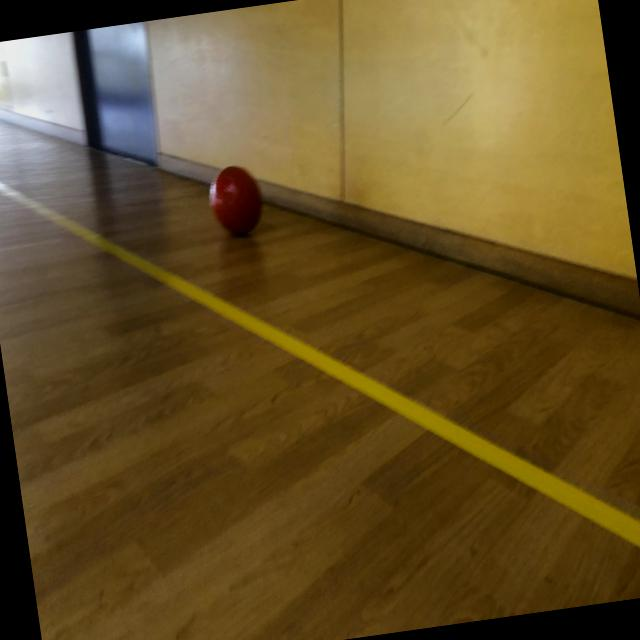red_ball: (206, 162, 267, 240)
